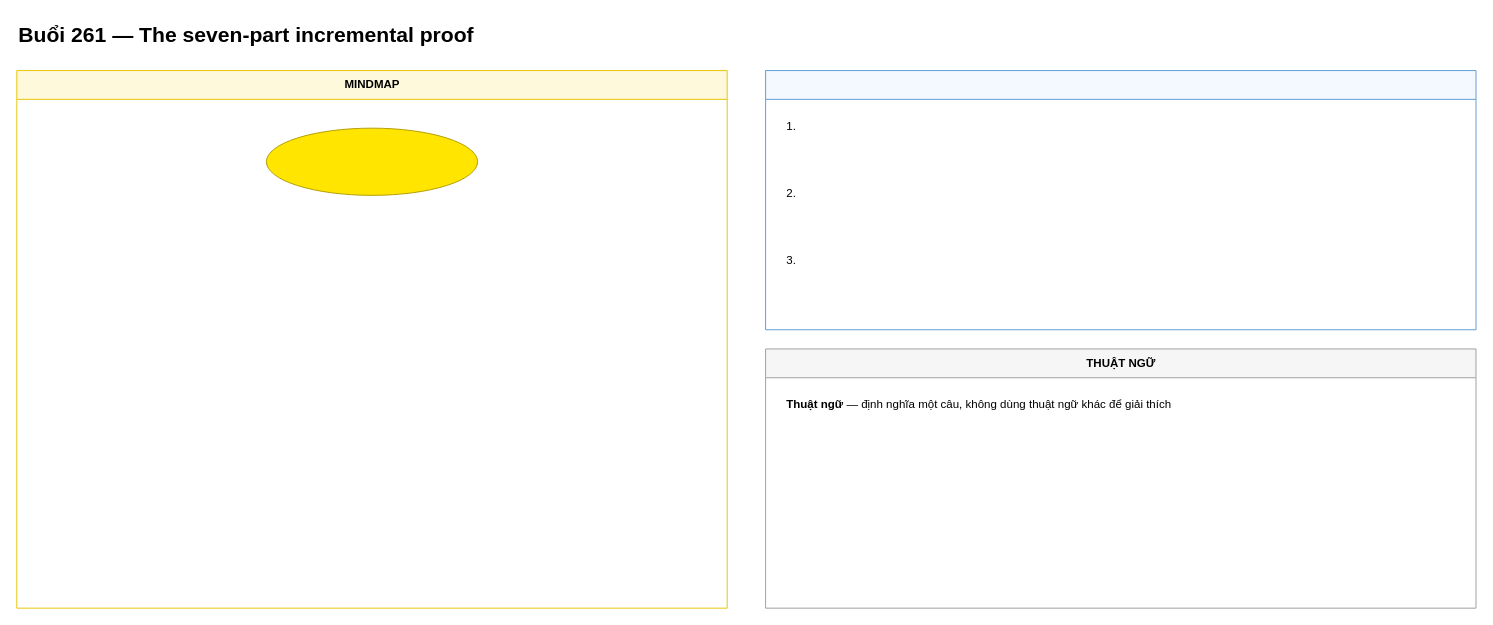
The diagram is 1493 pixels wide and 625 high, and some of its shapes have lost their labels. Here are the shapes that lost their labels. From the top down, the box of each, then its label:
(265, 127, 478, 195): The seven-part incremental proof
(765, 70, 1476, 330): KEY TAKEAWAY — ba điều phải nhớ
